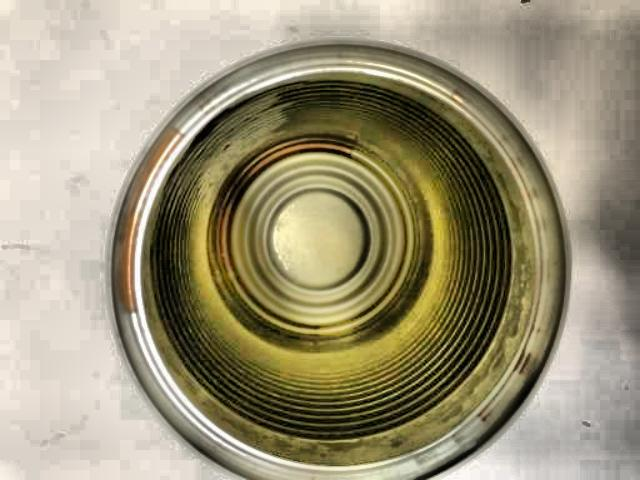Almennt: (97, 19, 582, 480)
